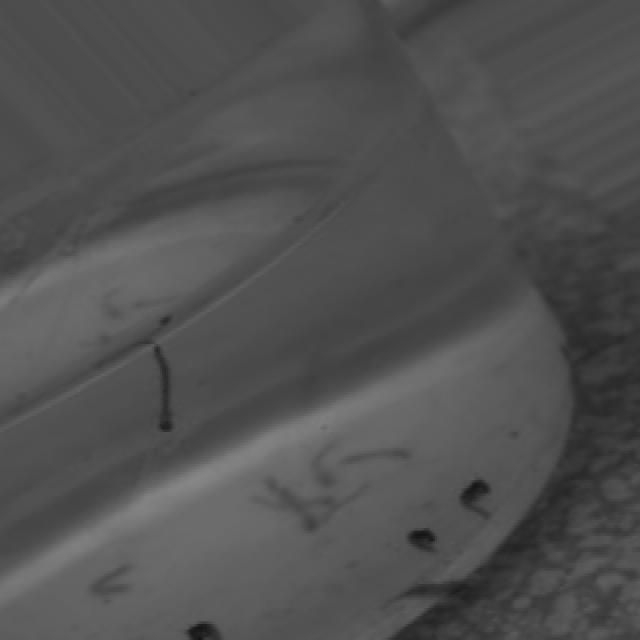larvas: (90, 305, 179, 375), (264, 477, 322, 537), (312, 482, 366, 525), (153, 342, 173, 429), (395, 576, 467, 599), (313, 427, 340, 488), (90, 564, 131, 602), (460, 474, 493, 516), (340, 448, 408, 467), (254, 493, 334, 509), (102, 279, 125, 322), (408, 524, 436, 554), (182, 621, 222, 640)
